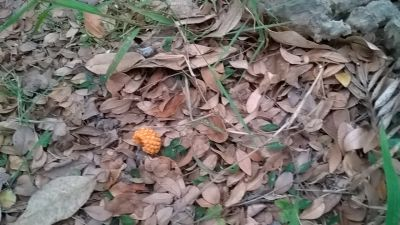eggs: (133, 126, 162, 155)
